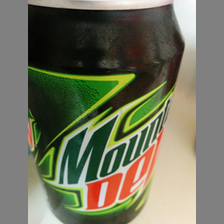soda: (28, 1, 186, 224)
